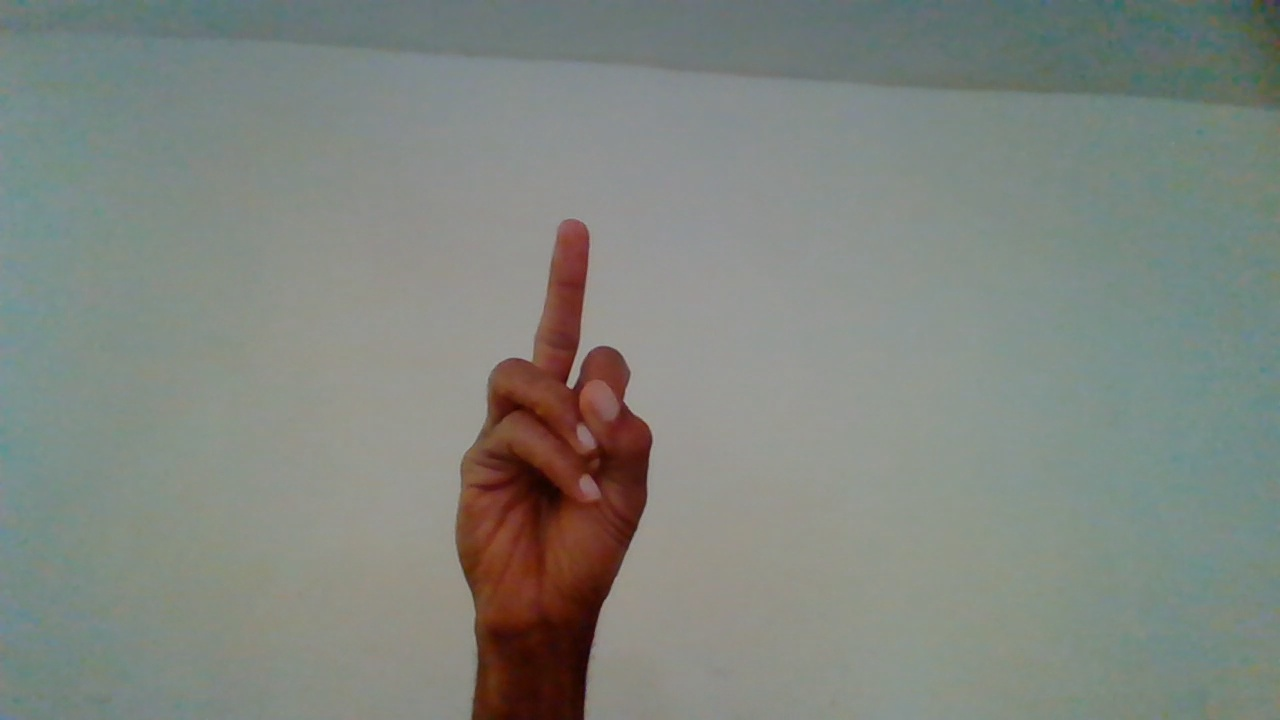he: (453, 216, 662, 708)
